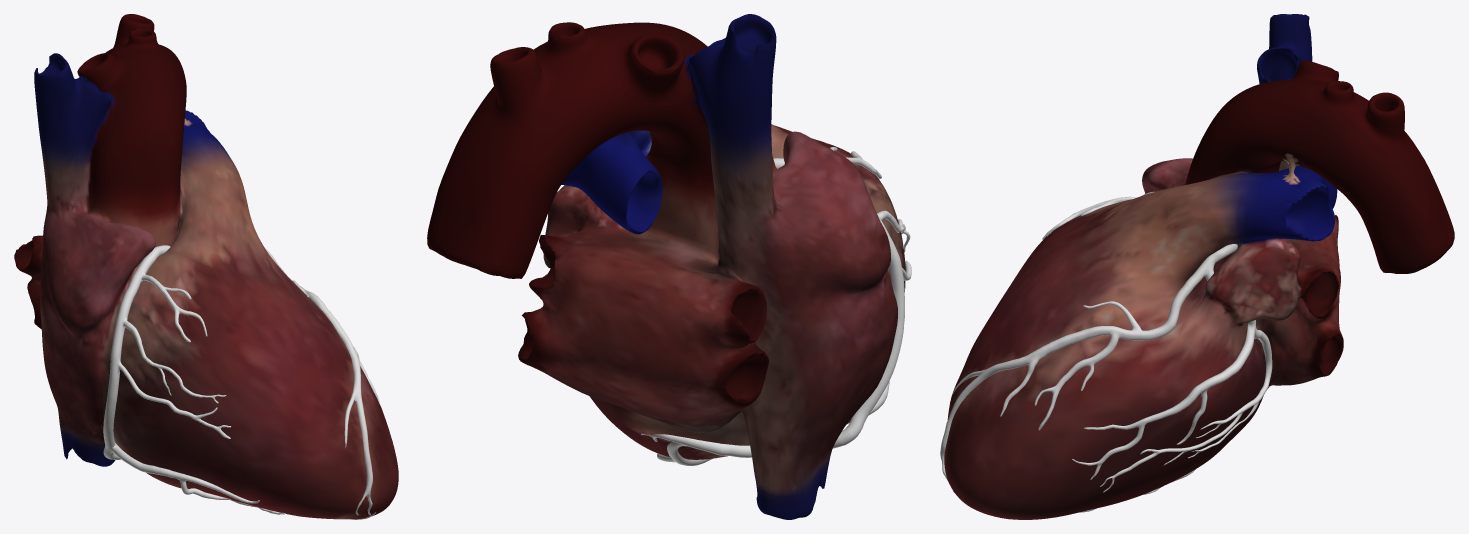
File: heart_right_type.fbx
3 views of the same model, side by side, from view 1: azimuth 30°, elevation 25°; view 2: azimuth 150°, elevation 25°; view 3: azimuth 270°, elevation 25° (orthographic). The views are drawn at different scales.
Visible parts, largest first — view 1: heart_body, RCA_mid, PLB, LAD_dist, RCA_dist, LAD_mid; view 2: heart_body, PDA, RCA_dist, RCA_mid; view 3: heart_body, OM1, LCx, LAD_prox, LAD_dist, LAD_mid, D1.
Part boxes in pixels (x1,y1,x2,y2): heart_body: (14,14,398,519); RCA_mid: (110,269,231,438); PLB: (105,443,259,503); LAD_dist: (344,347,372,515); RCA_dist: (103,366,120,447); LAD_mid: (307,292,357,353); heart_body: (427,14,905,519); PDA: (641,412,867,465); RCA_dist: (857,273,904,413); RCA_mid: (830,147,911,280); heart_body: (944,14,1454,519); OM1: (1072,325,1254,479); LCx: (1100,267,1272,492); LAD_prox: (1083,263,1208,340); LAD_dist: (940,354,1030,482); LAD_mid: (1027,326,1119,365); D1: (1034,336,1120,430).
Size of the model in its own units: 0.7054 by 1.09 by 1.21.
